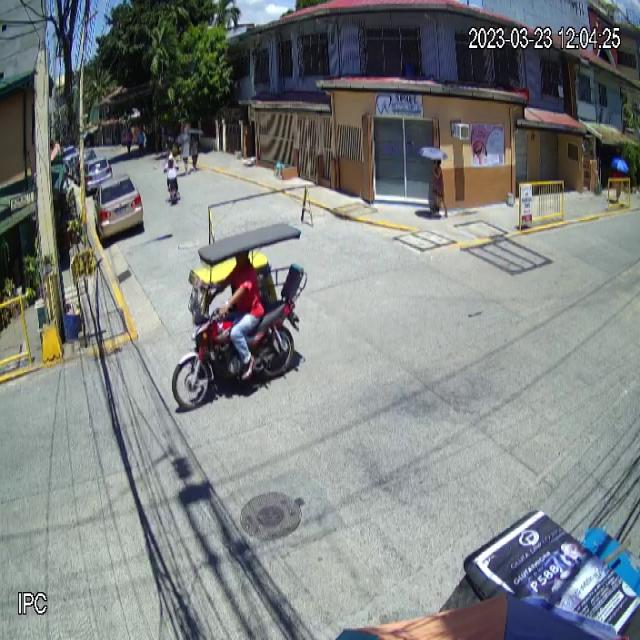Tricycle: (170, 218, 310, 416)
